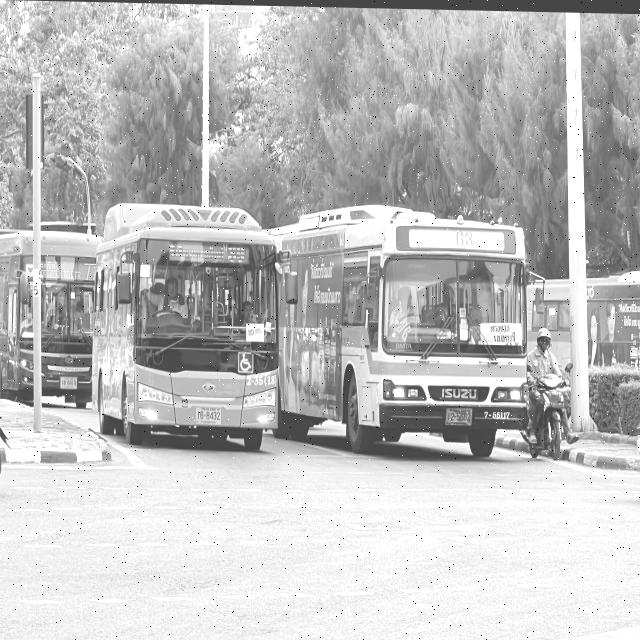BMTA-bus: (274, 196, 532, 459)
Bus Line Number: (452, 227, 477, 247), (226, 243, 248, 263), (82, 258, 97, 283)
Bus Side Number: (244, 371, 277, 386), (482, 405, 512, 420)
Destination Sign: (41, 257, 82, 282), (480, 320, 522, 344)
TSB-Bus: (94, 197, 278, 452), (0, 221, 93, 408)
